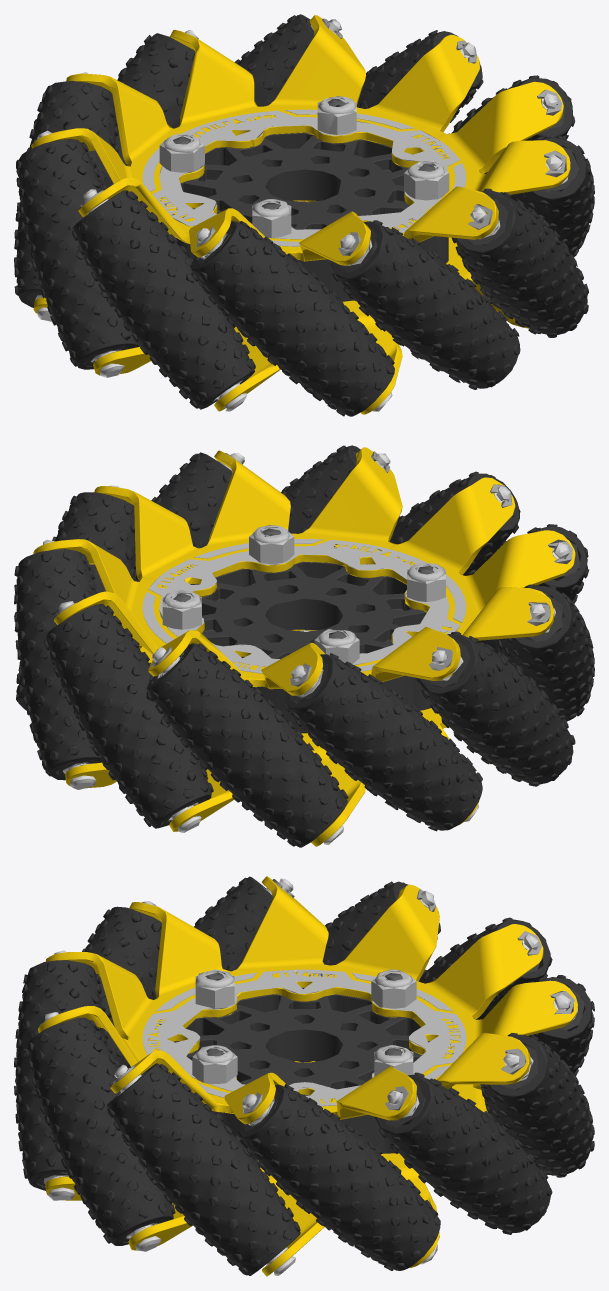
The model's file is gobilda-3625-0001-0104-right-mecanum.glb.
The picture shows the model from 3 angles, top to bottom: view 1: azimuth 30°, elevation 25°; view 2: azimuth 150°, elevation 25°; view 3: azimuth 270°, elevation 25°; orthographic projection.
Size of the model in its own units: 0.104 by 0.0377 by 0.104.
